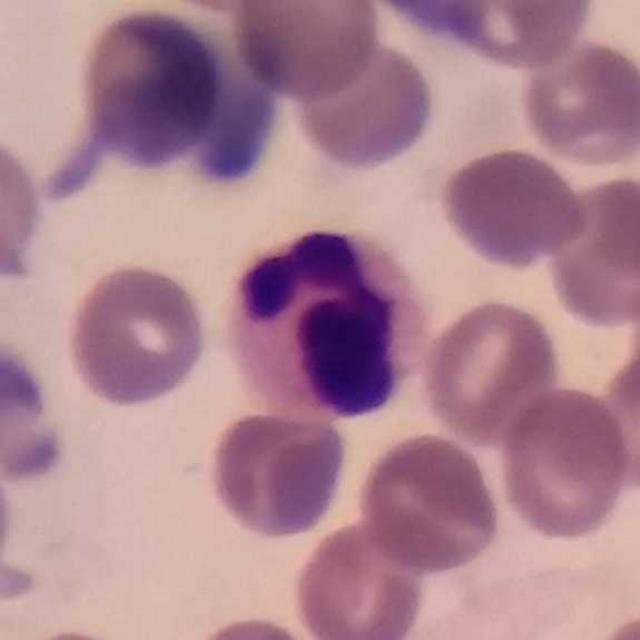Neutrophil: (223, 213, 440, 421)
RBC: (64, 8, 223, 168), (61, 259, 214, 412), (494, 382, 634, 544), (286, 29, 441, 174), (355, 428, 505, 576), (416, 294, 563, 445), (204, 405, 350, 543), (436, 143, 594, 270), (289, 513, 434, 639), (515, 32, 639, 170), (227, 0, 385, 102), (542, 169, 640, 331), (0, 342, 70, 494), (439, 0, 593, 68), (587, 336, 640, 494), (0, 125, 49, 292), (176, 611, 334, 640), (0, 438, 18, 604), (3, 623, 152, 640), (580, 603, 640, 640)
